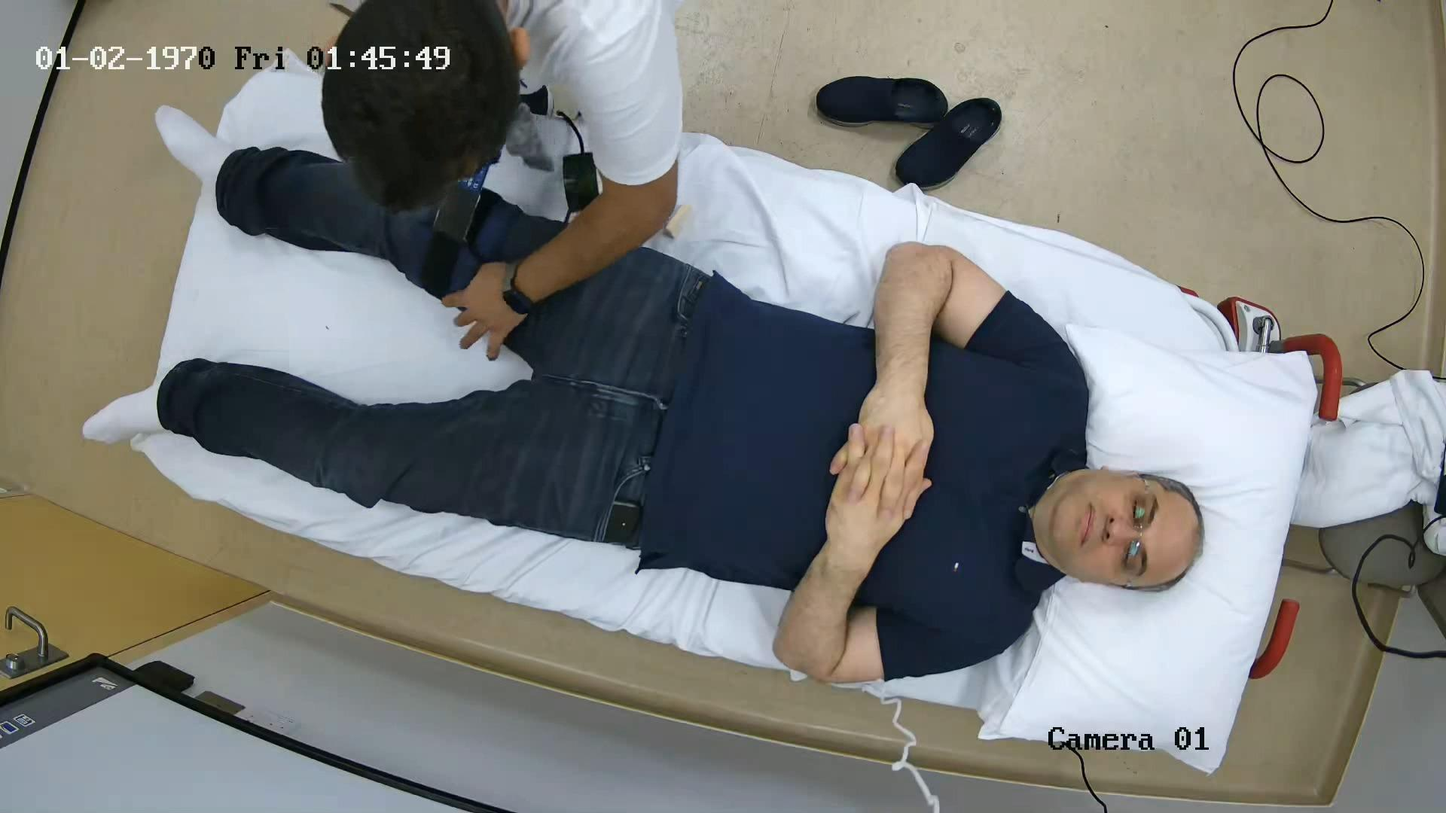bed: (134, 61, 1341, 772)
patient: (157, 148, 1201, 683), (441, 186, 475, 223)
tourniquet: (415, 166, 526, 298)
